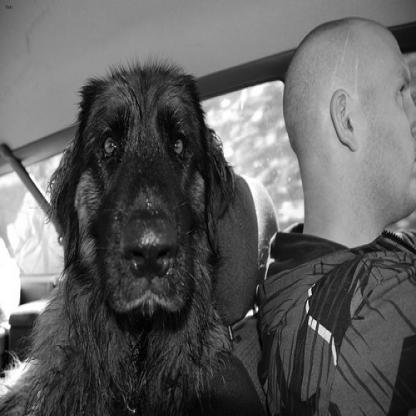Leonberger: (33, 40, 254, 354)
